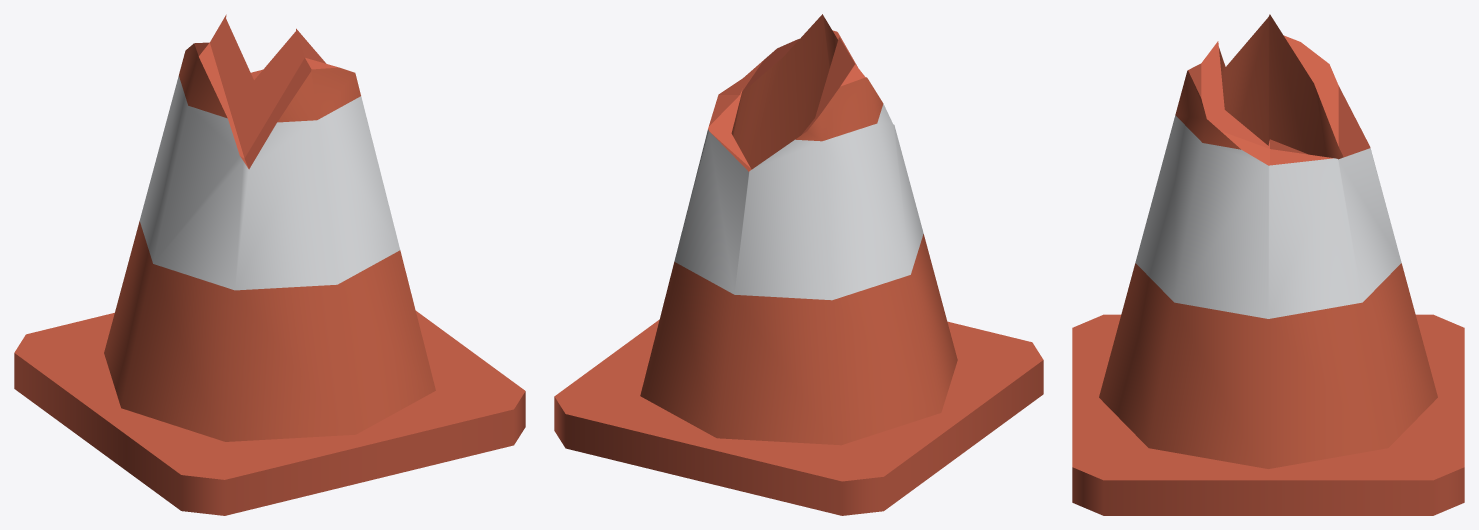
File: Broken_Traffic_Cone_005.glb
3 renders of one model, left to right at view 1: azimuth 30°, elevation 25°; view 2: azimuth 150°, elevation 25°; view 3: azimuth 270°, elevation 25°, orthographic. The views are drawn at different scales.
Parts seen in each view (by area): view 1: Broken Traffic Cone.005; view 2: Broken Traffic Cone.005; view 3: Broken Traffic Cone.005.
Part boxes in pixels (box(x1,y1,x2,y2)): Broken Traffic Cone.005: box(14, 14, 525, 515); Broken Traffic Cone.005: box(554, 14, 1043, 515); Broken Traffic Cone.005: box(1072, 14, 1464, 515).
Size of the model in its own units: 2 by 2.24 by 2.
1 material, 1 textured.
